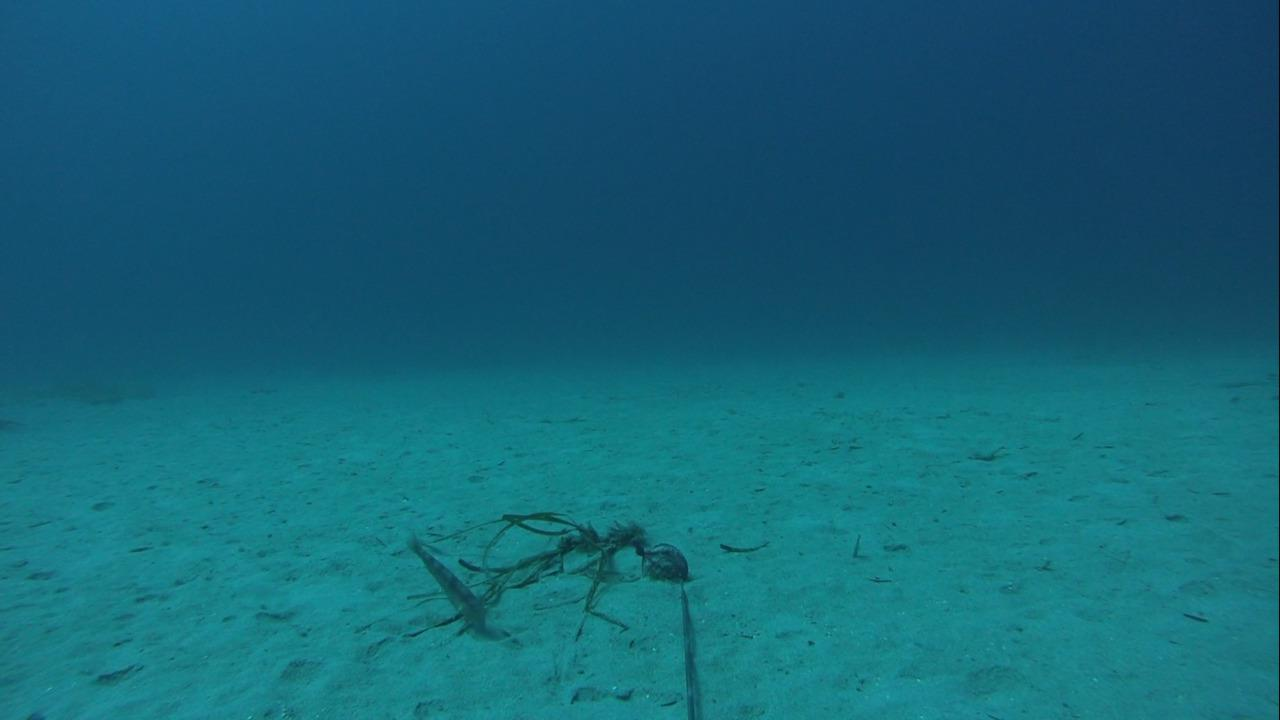raor: (400, 532, 495, 633)
